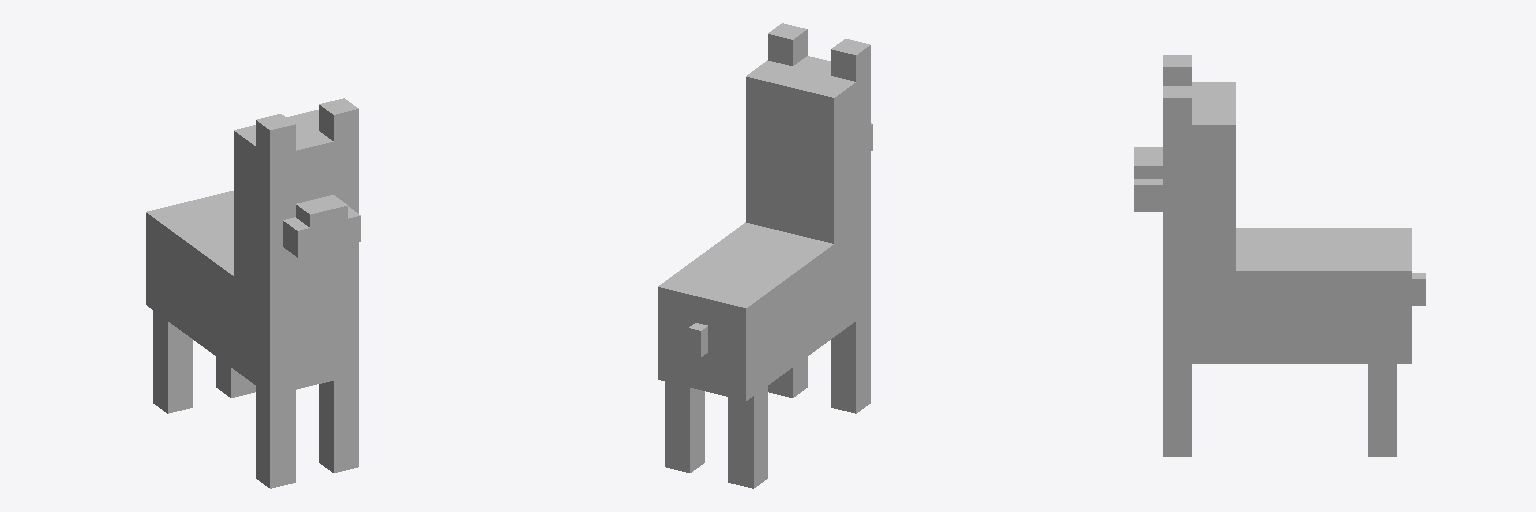
Rendered from alpaca.obj.
3 renders of one model, left to right at view 1: azimuth 30°, elevation 25°; view 2: azimuth 150°, elevation 25°; view 3: azimuth 270°, elevation 25°, orthographic.
Parts seen in each view (by area): view 1: object 1; view 2: object 1; view 3: object 1.
Boxes of the visible parts, x1=… form: object 1: x1=146, y1=98, x2=360, y2=488; object 1: x1=658, y1=23, x2=872, y2=488; object 1: x1=1134, y1=55, x2=1425, y2=456.
Size of the model in its own units: 0.7 by 2.7 by 2.